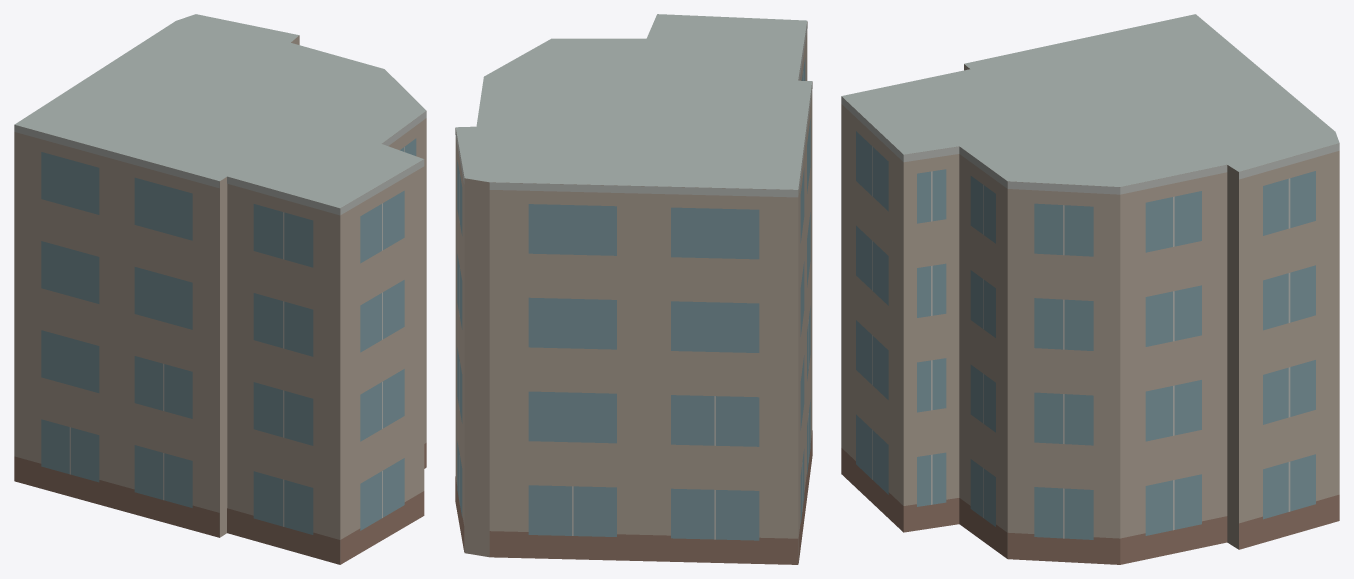
The model's file is survey-upis-32971880.glb.
3 views of the same model, side by side, from view 1: azimuth 30°, elevation 25°; view 2: azimuth 150°, elevation 25°; view 3: azimuth 270°, elevation 25° (orthographic). The views are drawn at different scales.
Parts seen in each view (by area): view 1: survey-upis-32971880.tmp; view 2: survey-upis-32971880.tmp; view 3: survey-upis-32971880.tmp.
Boxes of the visible parts, x1=… form: survey-upis-32971880.tmp: x1=14, y1=14, x2=426, y2=564; survey-upis-32971880.tmp: x1=455, y1=14, x2=812, y2=564; survey-upis-32971880.tmp: x1=841, y1=14, x2=1339, y2=564.
Bounding box in the file's own units: 11.95 × 12.15 × 14.53.
